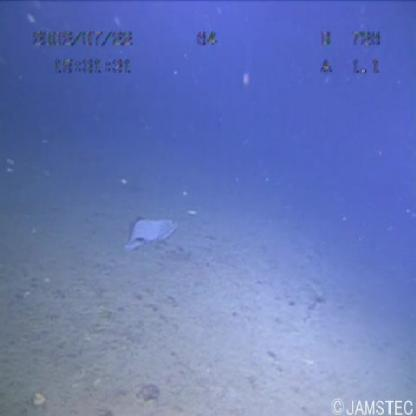Rác: (113, 203, 183, 252)
